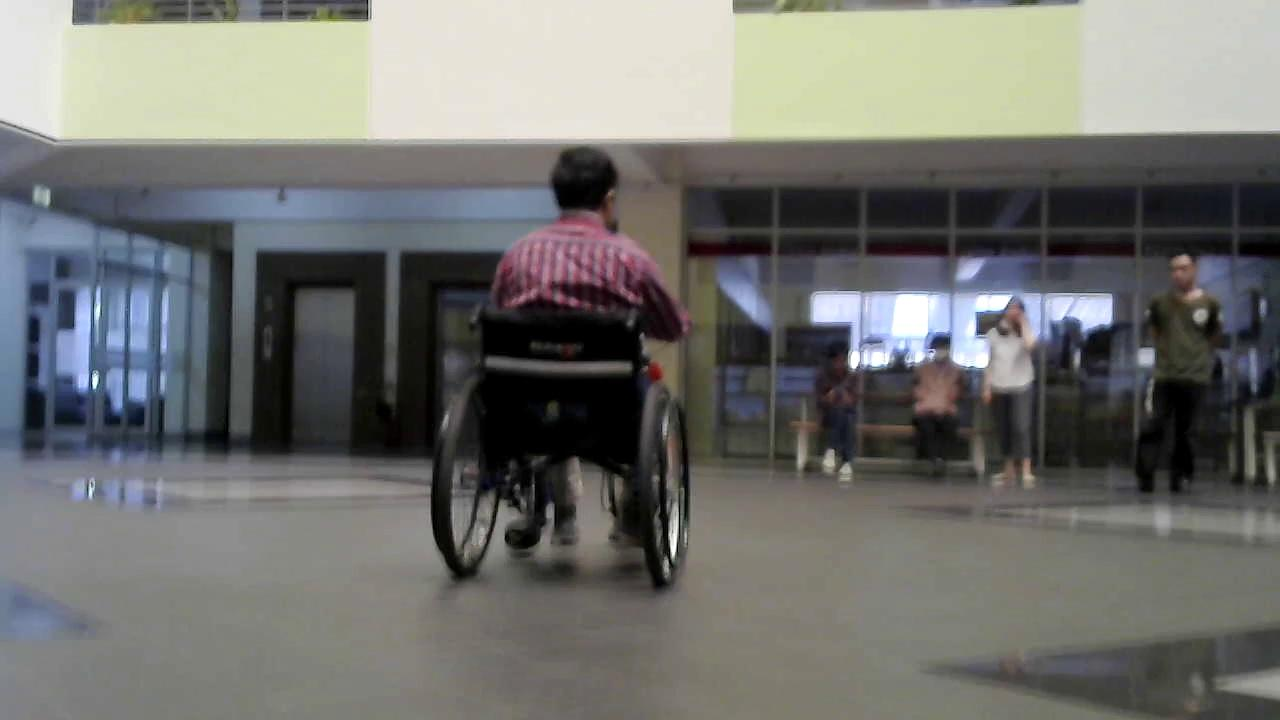person: (475, 144, 693, 571), (1142, 251, 1227, 493), (982, 300, 1040, 491), (909, 332, 964, 470), (817, 344, 861, 483)
wheelchair: (409, 289, 714, 588)
